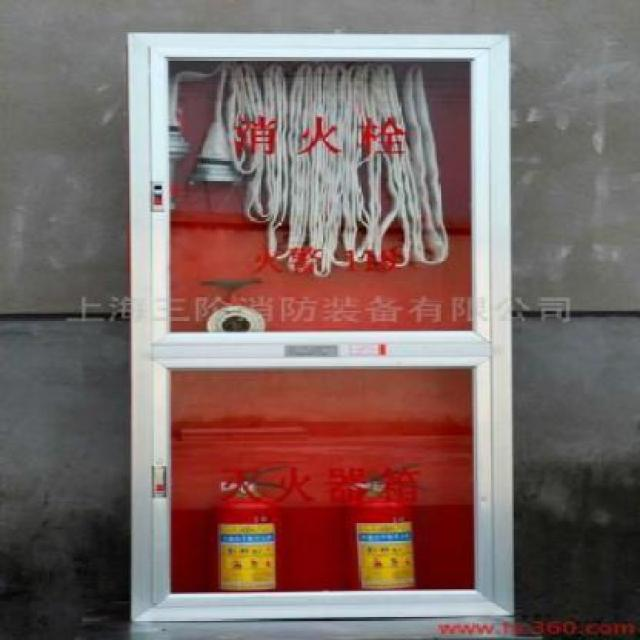firehydrant: (122, 29, 520, 640)
